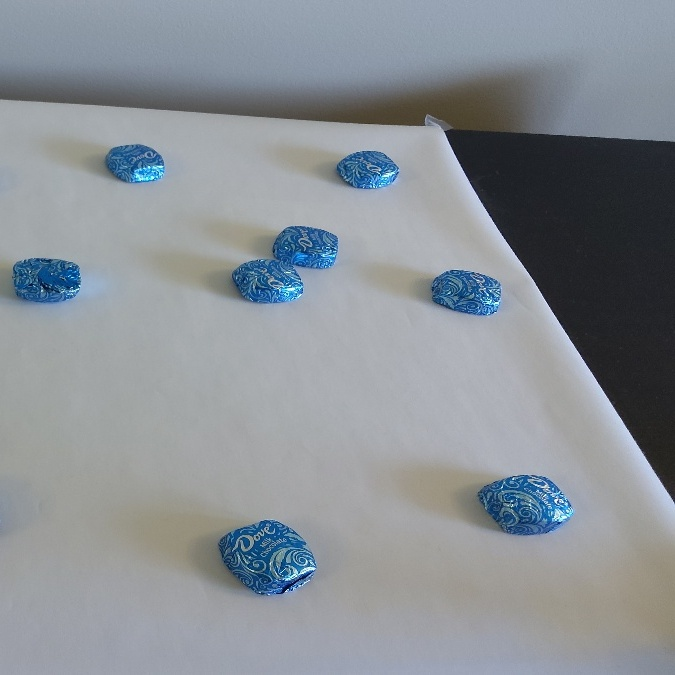chocolate_blue: (221, 514, 325, 607), (467, 462, 579, 543), (6, 250, 98, 315), (224, 253, 308, 315), (427, 263, 511, 320), (266, 216, 343, 272), (326, 145, 403, 194), (100, 137, 171, 187)
